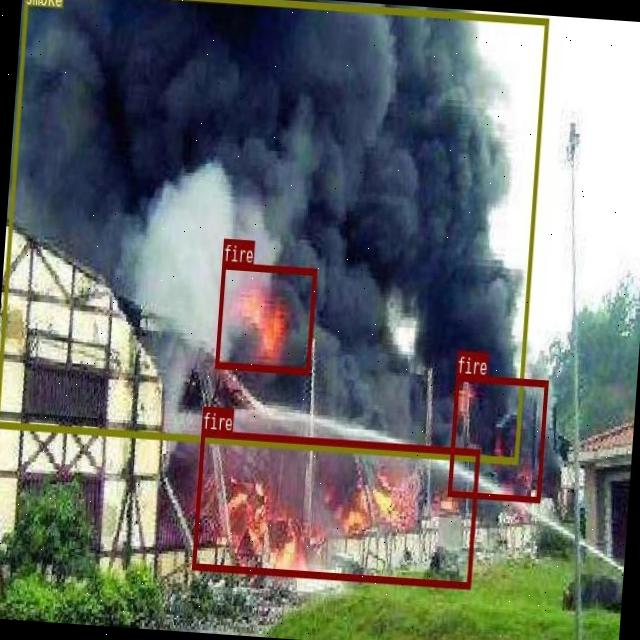fire: (190, 429, 480, 586), (448, 372, 548, 502), (214, 260, 316, 372)
smoke: (0, 0, 548, 462)
